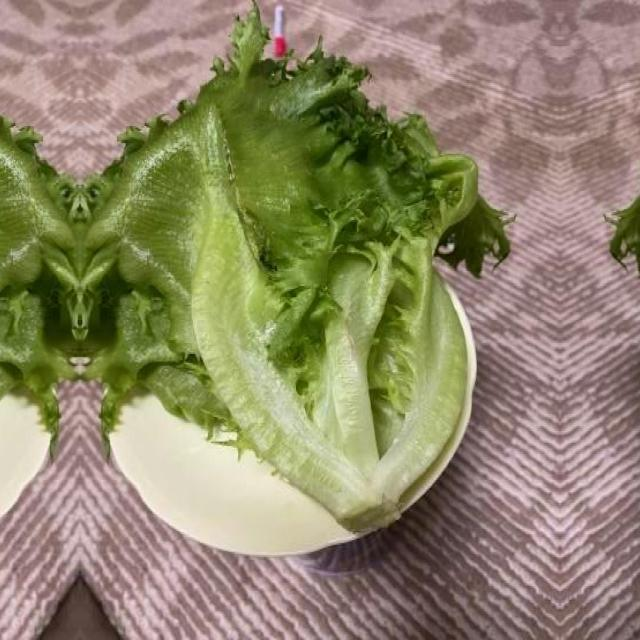healthy: (80, 5, 514, 535), (0, 5, 79, 535), (606, 5, 640, 535)
